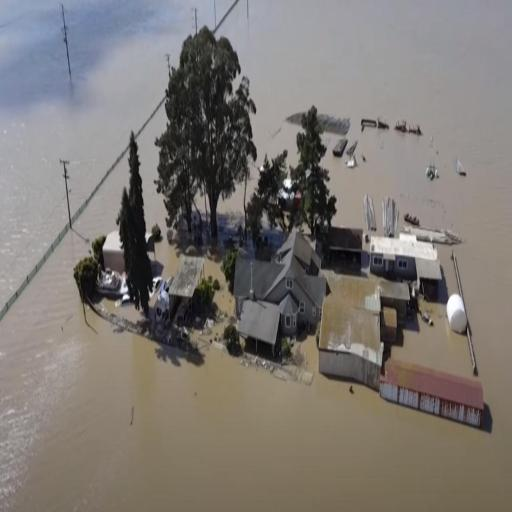flood: (0, 0, 512, 508), (0, 0, 215, 308), (187, 185, 247, 340), (137, 103, 179, 280), (392, 302, 473, 377), (217, 0, 233, 16)
house: (231, 225, 326, 373), (382, 346, 486, 442), (319, 266, 383, 398), (370, 228, 445, 290)
